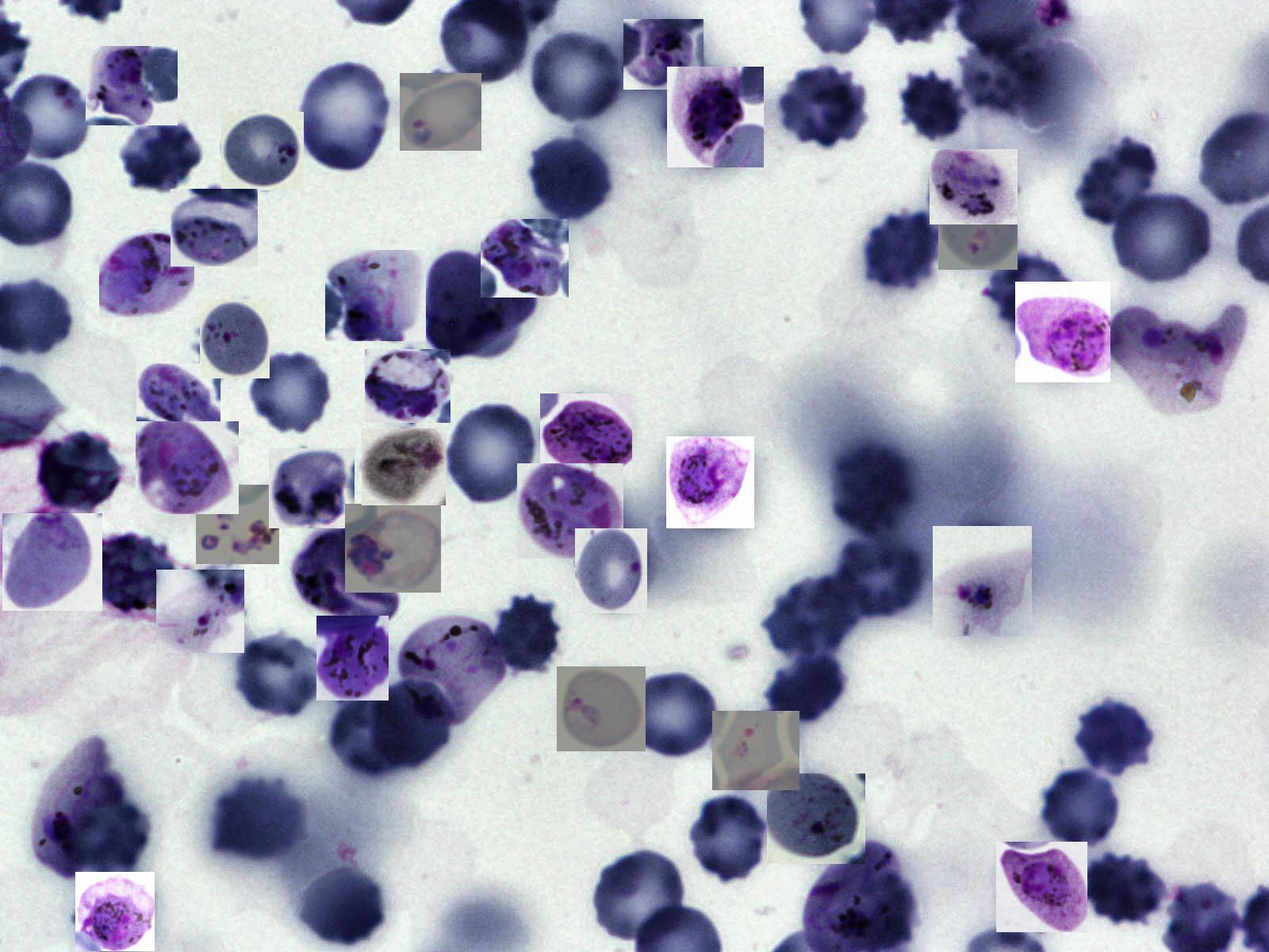Infected: (1111, 305, 1251, 408), (34, 734, 122, 879), (397, 613, 502, 724), (802, 839, 901, 952), (933, 526, 1032, 636), (291, 528, 397, 629), (517, 463, 623, 559), (2, 513, 102, 611), (668, 67, 765, 167), (136, 421, 239, 514), (1015, 282, 1110, 382), (325, 250, 426, 341), (767, 774, 865, 864), (345, 504, 441, 593), (99, 230, 194, 317), (996, 842, 1087, 932), (666, 436, 754, 528), (557, 666, 646, 751), (540, 393, 632, 475), (938, 176, 1018, 270), (156, 570, 244, 653), (86, 46, 178, 125), (481, 219, 569, 298), (269, 448, 355, 528), (713, 711, 800, 790), (171, 189, 258, 267), (930, 149, 1018, 225), (196, 485, 279, 564), (221, 112, 304, 190), (362, 428, 446, 505), (136, 363, 220, 440), (75, 872, 155, 951), (400, 73, 481, 151), (365, 349, 450, 423), (316, 616, 389, 701), (575, 528, 647, 613), (623, 19, 704, 90), (200, 299, 270, 378)
Uninfected: (292, 57, 394, 174), (442, 401, 542, 509), (1109, 189, 1215, 286), (425, 250, 518, 359), (589, 850, 690, 946), (825, 435, 918, 538), (619, 670, 722, 761), (833, 531, 929, 624), (527, 31, 622, 124), (211, 773, 306, 866), (84, 531, 178, 620), (293, 861, 387, 949), (229, 632, 321, 720), (985, 250, 1079, 336), (7, 71, 94, 162), (34, 430, 126, 516), (774, 65, 868, 149), (527, 134, 615, 223), (1075, 141, 1164, 228), (758, 580, 854, 660), (369, 677, 453, 768), (247, 350, 335, 436), (688, 796, 771, 885), (861, 207, 945, 293), (328, 696, 412, 781), (1039, 768, 1125, 851), (764, 645, 851, 727), (1072, 698, 1157, 778), (1083, 850, 1167, 930), (116, 120, 205, 195), (488, 592, 564, 678), (74, 797, 153, 879), (901, 71, 968, 138)
